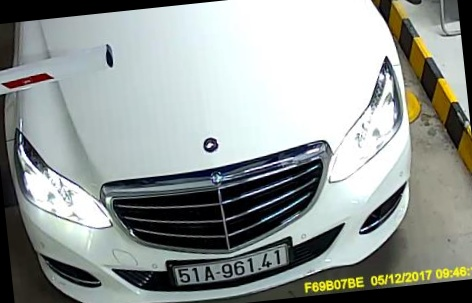plate: (167, 240, 298, 291)
